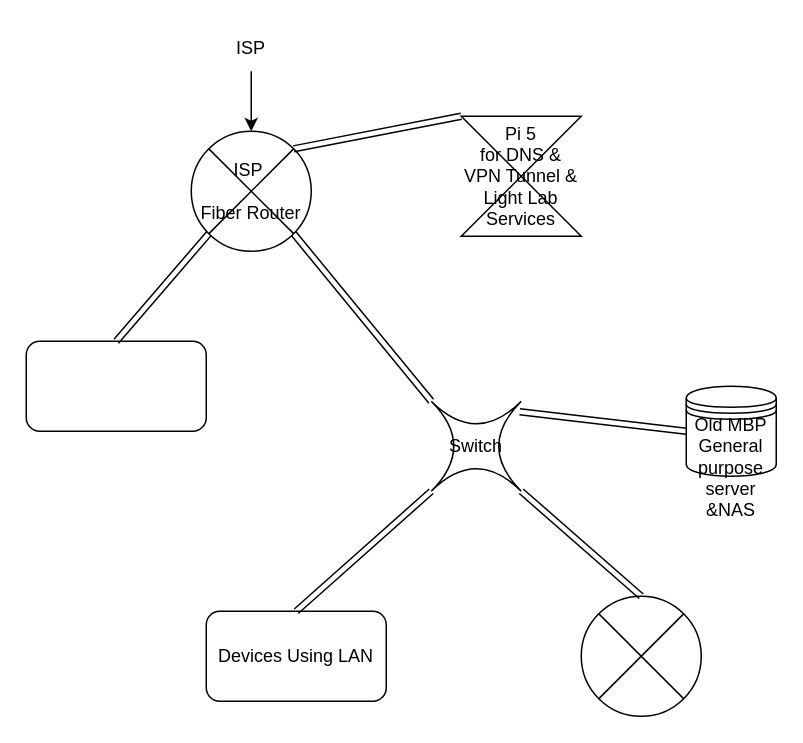
Some shapes in this 803 by 743 pixel diagram are drawn without their labels. Here are the shapes that lost their labels. From the top down, the box of each, then its label:
(25, 340, 206, 431): Devices
(580, 595, 701, 716): Access Point for 2F
